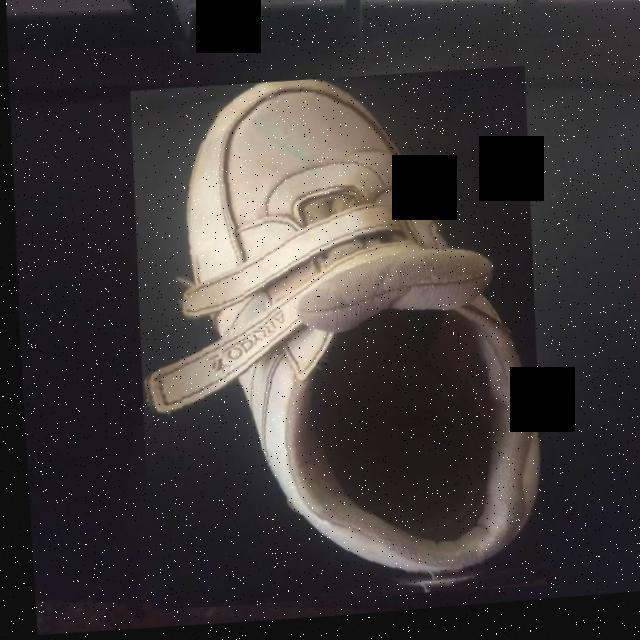shoe: (120, 67, 547, 619)
